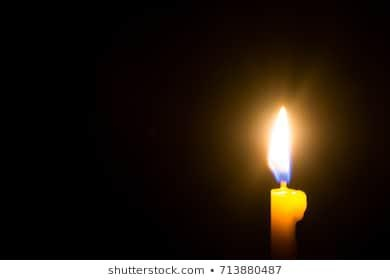fire: (265, 101, 294, 187)
